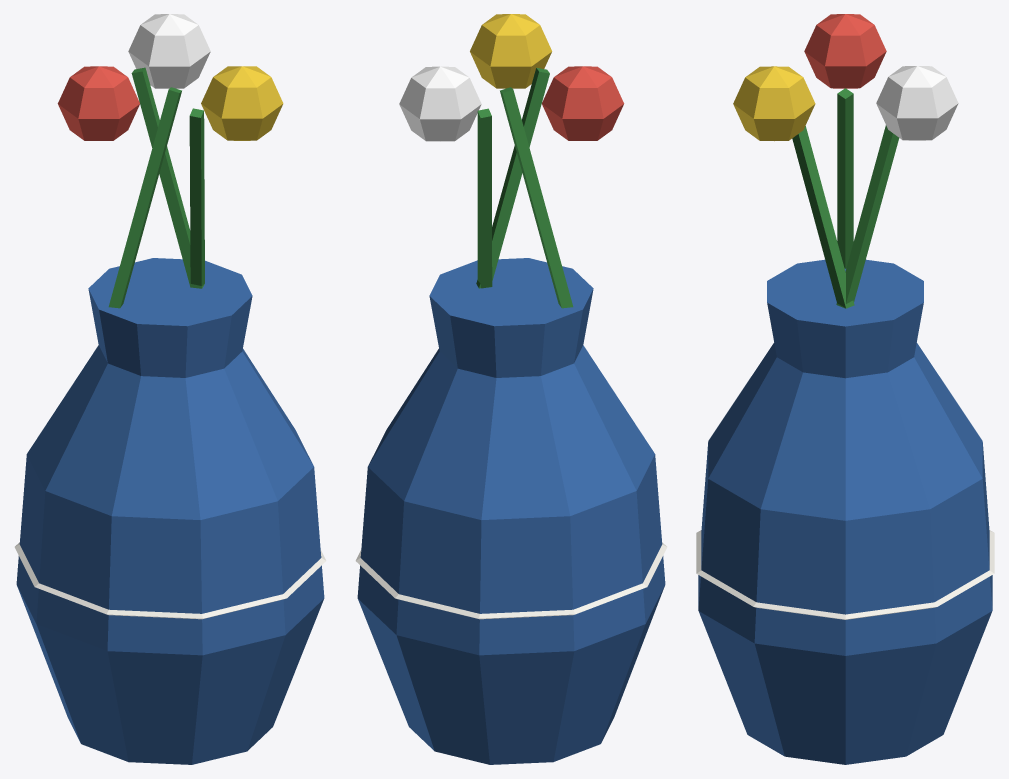
The model's file is vase.fbx.
3 renders of one model, left to right at view 1: azimuth 30°, elevation 25°; view 2: azimuth 150°, elevation 25°; view 3: azimuth 270°, elevation 25°, orthographic.
Visible parts, largest first — view 1: vase; view 2: vase; view 3: vase.
Boxes of the visible parts, box(x1,y1,x2,y2) form: vase: box(14, 14, 326, 764); vase: box(355, 14, 667, 764); vase: box(696, 14, 994, 764).
Bounding box in the file's own units: 0.608 × 1.44 × 0.5782.
